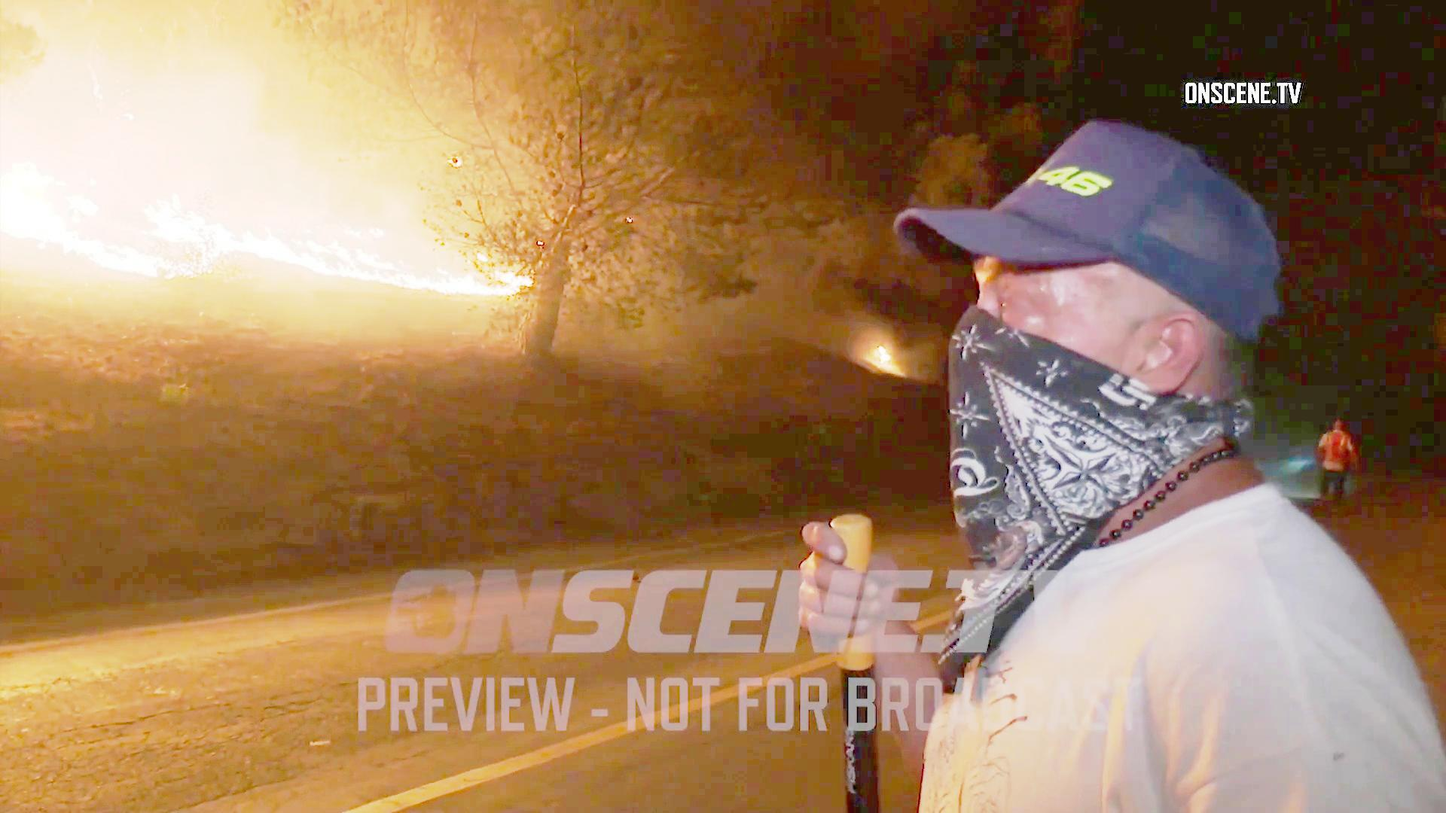fire: (0, 174, 239, 292)
